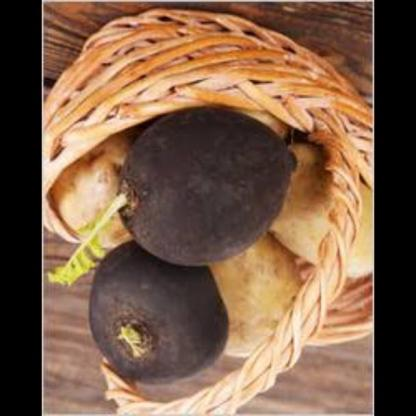potato: (212, 141, 374, 361), (48, 132, 139, 262)
redka: (114, 109, 299, 270), (86, 254, 226, 384)
